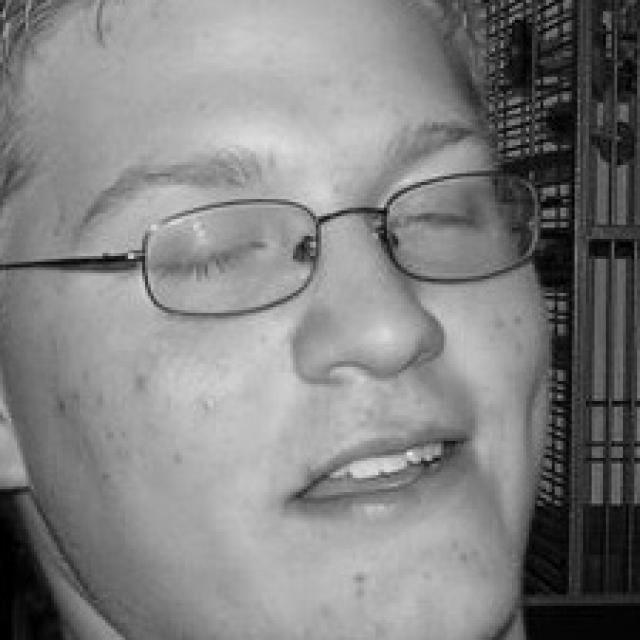real: (14, 34, 552, 630), (123, 172, 501, 312)
